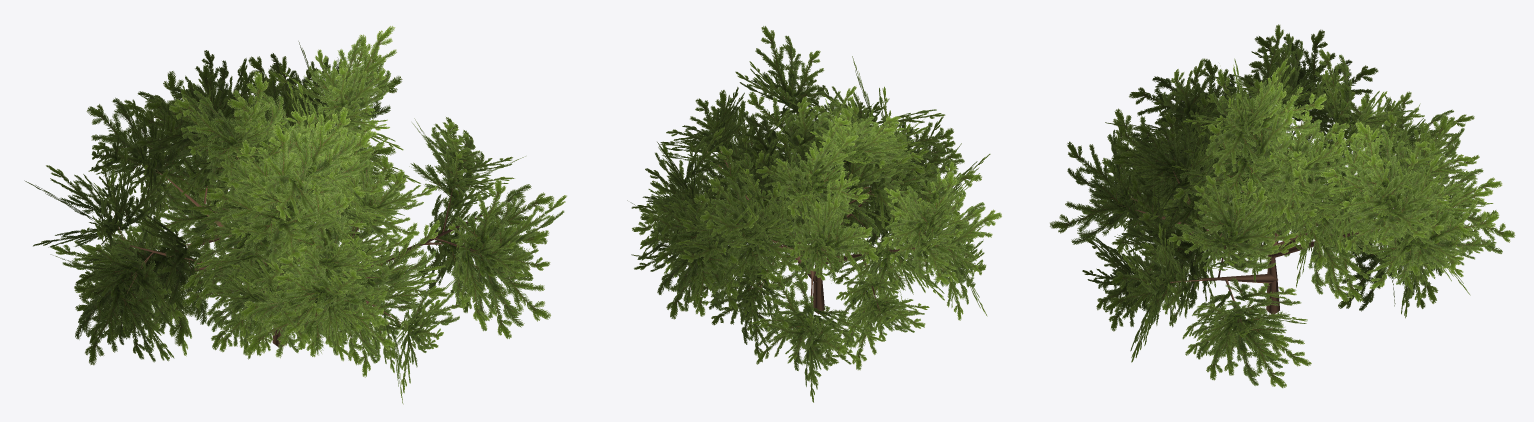
File: bush3.glb
3 renders of one model, left to right at view 1: azimuth 30°, elevation 25°; view 2: azimuth 150°, elevation 25°; view 3: azimuth 270°, elevation 25°, orthographic. The views are drawn at different scales.
Parts seen in each view (by area): view 1: Leaves_LOD0, Trunk_LOD0; view 2: Leaves_LOD0, Trunk_LOD0; view 3: Leaves_LOD0, Trunk_LOD0.
Boxes of the visible parts, bbox=[...] form: Leaves_LOD0: bbox=[24, 26, 566, 404]; Trunk_LOD0: bbox=[112, 135, 488, 347]; Leaves_LOD0: bbox=[627, 26, 1001, 402]; Trunk_LOD0: bbox=[707, 151, 951, 316]; Leaves_LOD0: bbox=[1050, 24, 1515, 388]; Trunk_LOD0: bbox=[1119, 104, 1410, 326].
Size of what is drawn, in the model's own units: 1.6 by 1.2 by 1.52.
2 materials, 1 textured.
